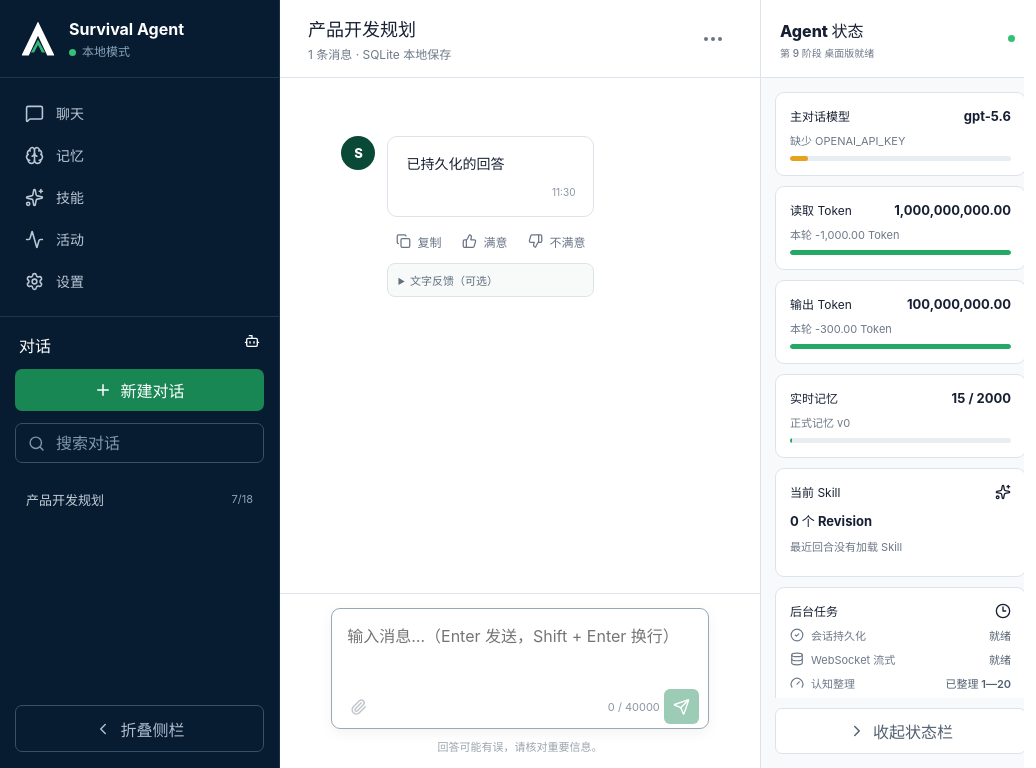
Test: phase 6 application › records satisfaction and explains the survival reward
Check: the text "已持久化的回答" is shown, box [406, 155, 504, 172]
Click the button "满意" at (485, 241), box [454, 225, 516, 257]
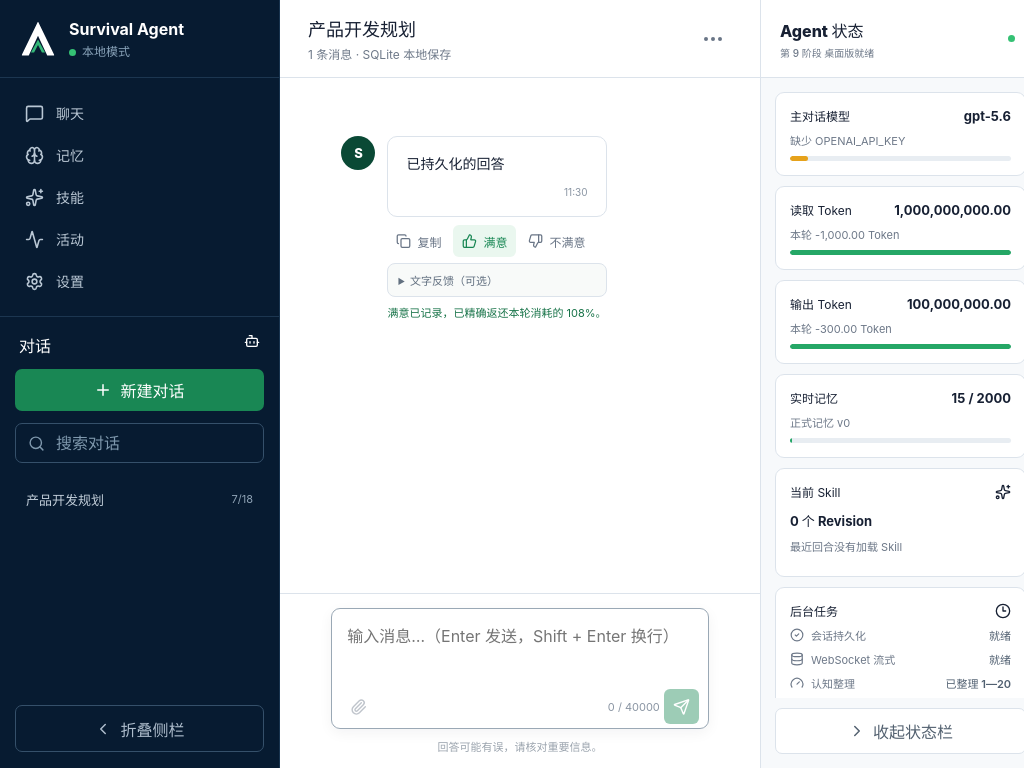
Check: the text "满意已记录，已精确返还本轮消耗的 108%。" is shown, box [387, 304, 606, 320]
